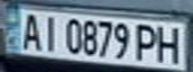0: (60, 16, 84, 55)
7: (96, 18, 115, 57)
8: (78, 17, 100, 56)
9: (112, 19, 136, 61)
A: (18, 10, 45, 51)
H: (154, 22, 187, 64)
I: (39, 12, 63, 52)
P: (133, 21, 163, 62)
